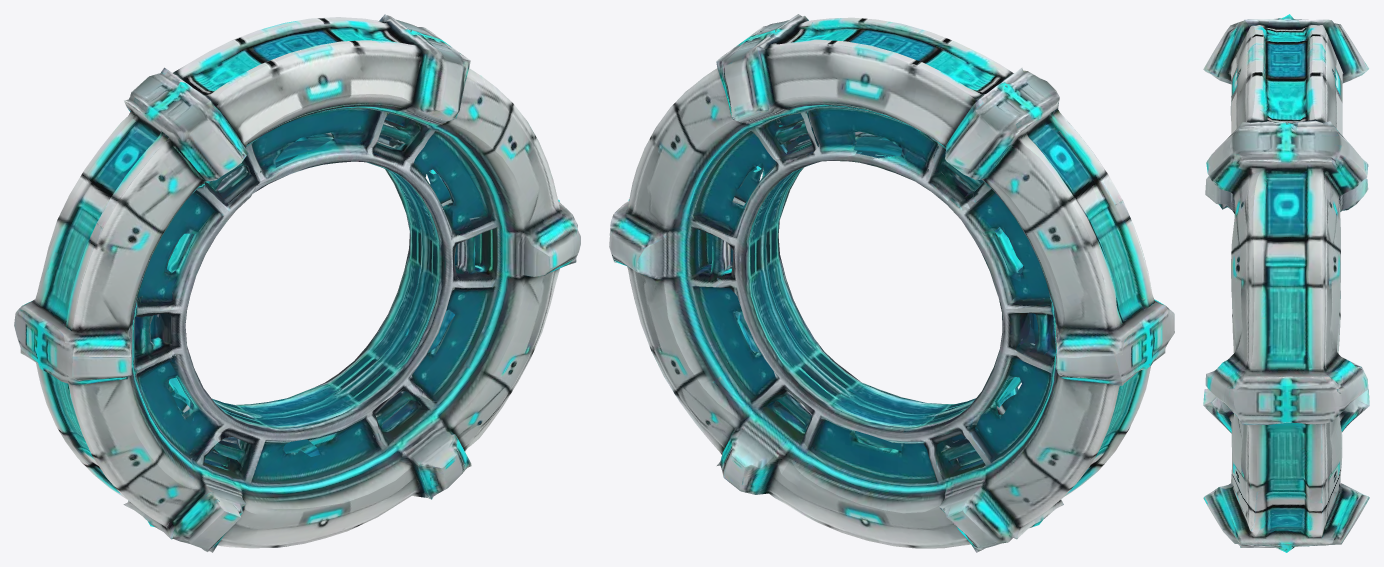
The model's file is cyanring.glb.
3 views of the same model, side by side, from view 1: azimuth 30°, elevation 25°; view 2: azimuth 150°, elevation 25°; view 3: azimuth 270°, elevation 25° (orthographic). The views are drawn at different scales.
Visible parts, largest first — view 1: Mesh0; view 2: Mesh0; view 3: Mesh0.
Part boxes in pixels (x1,y1,x2,y2): Mesh0: (14,14,580,552); Mesh0: (609,14,1174,552); Mesh0: (1203,14,1369,552).
Bounding box in the file's own units: 1.91 × 1.72 × 0.557.
Materials: 1 (1 with a texture image).
